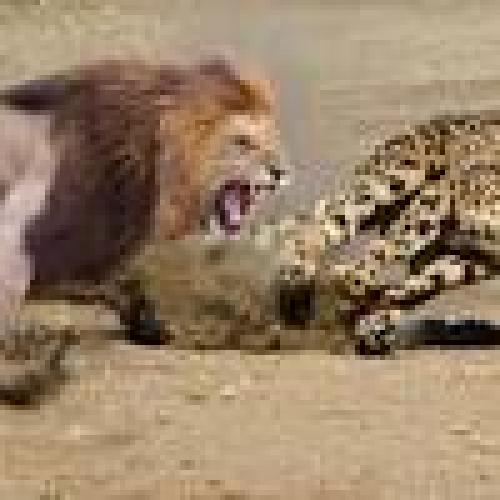lion-endangered: (0, 51, 290, 318)
